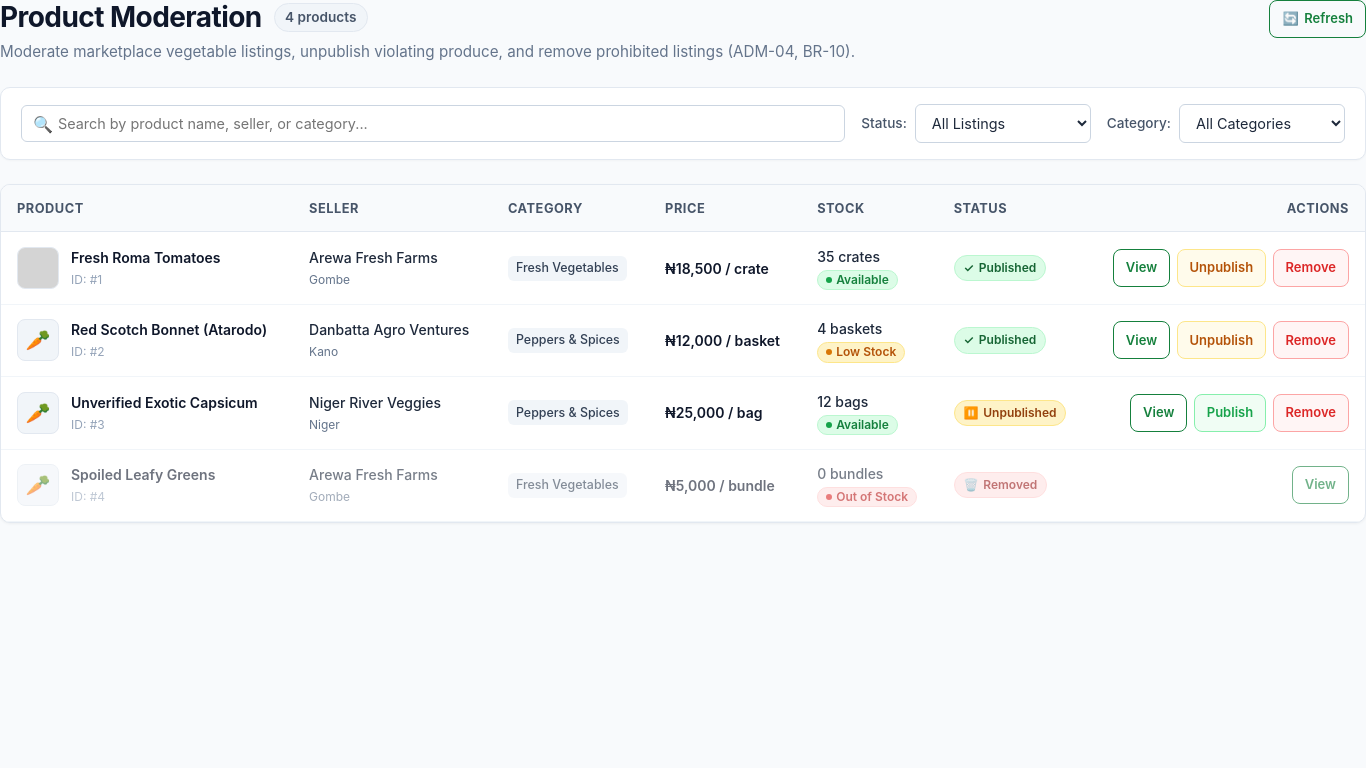
FE-099 / ADM-04: Admin Products Moderation Page › 3. View Product Details Modal (Figma Section 14) › opens modal on View button click displaying full produce details
Click the button with test id "view-product-btn-1".
click(1142, 268)  # box left=1113, top=249, right=1170, bottom=287
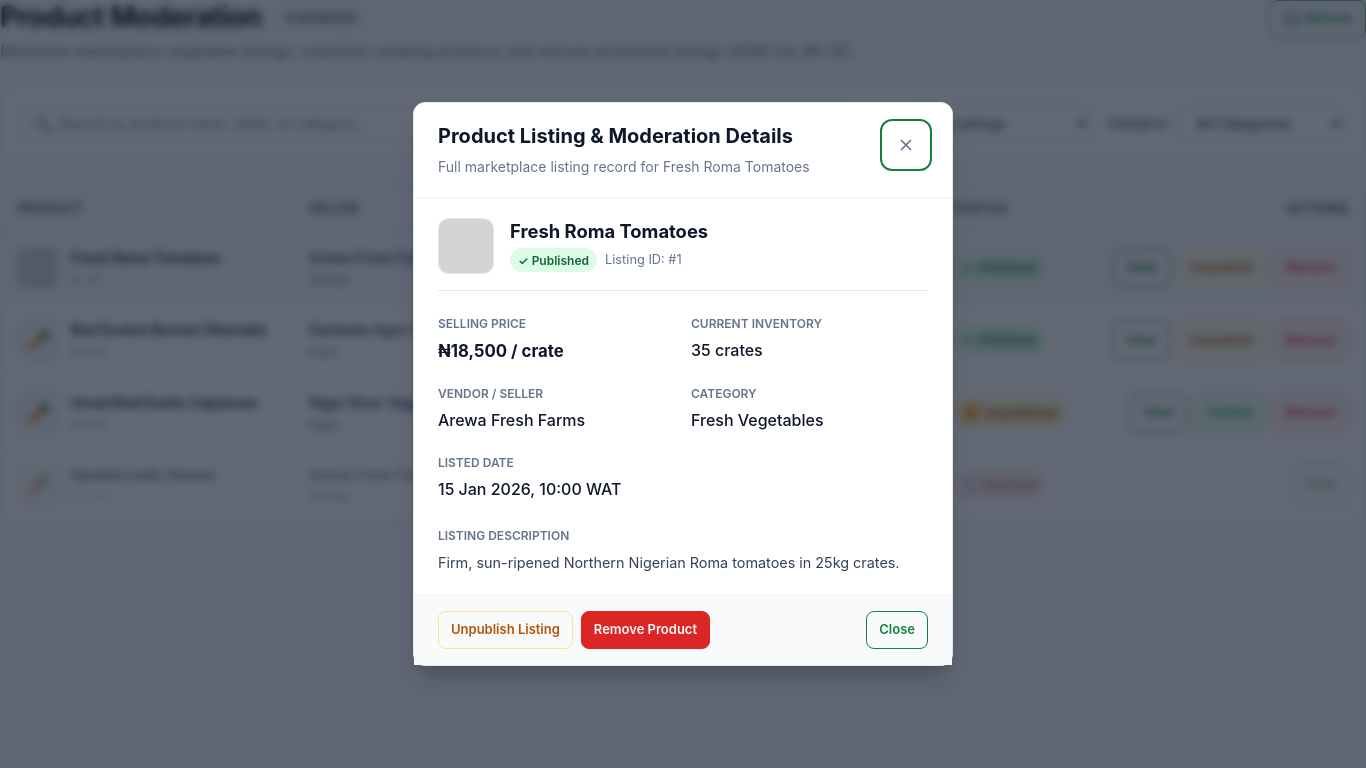
expect the dialog with test id "view-product-modal" is shown: met, box left=413, top=102, right=953, bottom=666
expect the heading with test id "modal-product-name" reads "Fresh Roma Tomatoes": met, box left=510, top=220, right=708, bottom=242
expect the text with test id "modal-product-price" reads "₦18,500 / crate": met, box left=438, top=341, right=564, bottom=361
// Close modal
Click the button with test id "modal-close-btn".
click(897, 630)  # box left=866, top=611, right=928, bottom=649
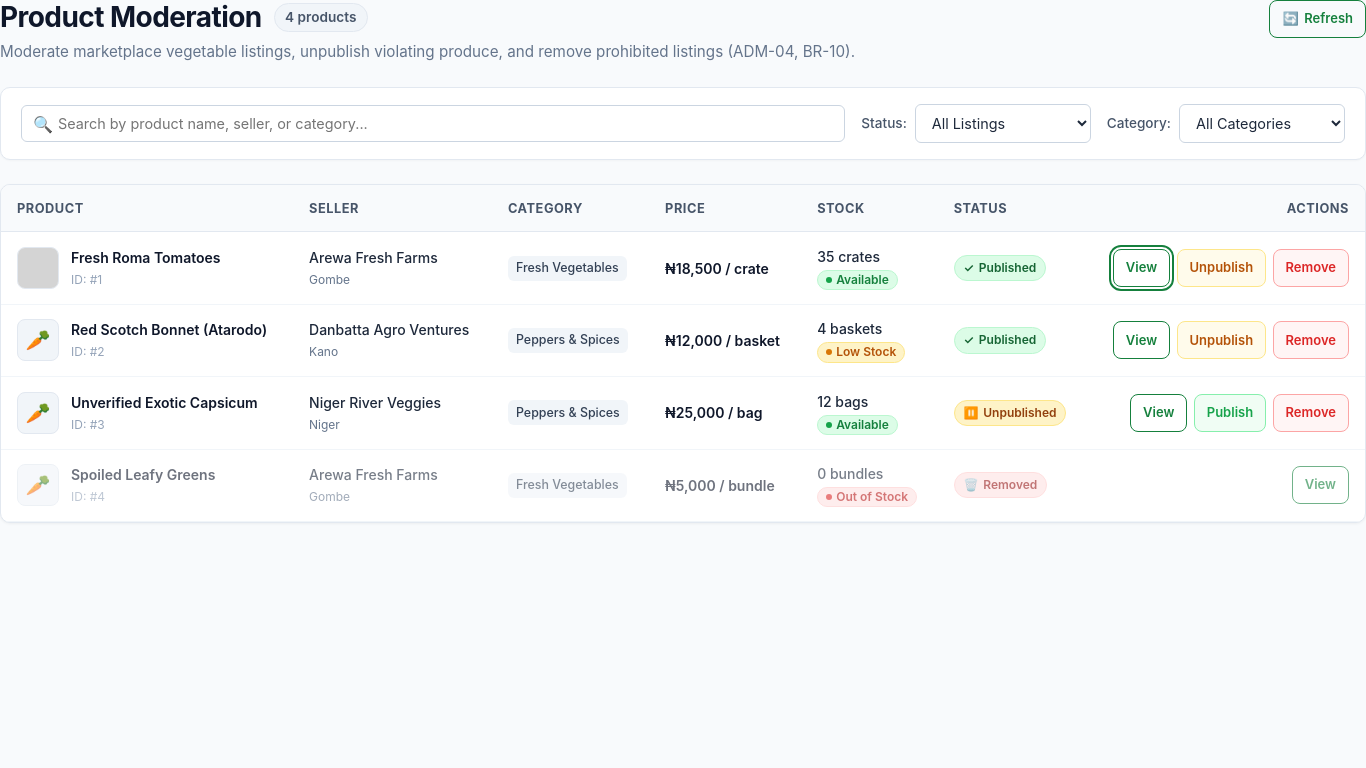
expect the dialog with test id "view-product-modal" is gone: met
